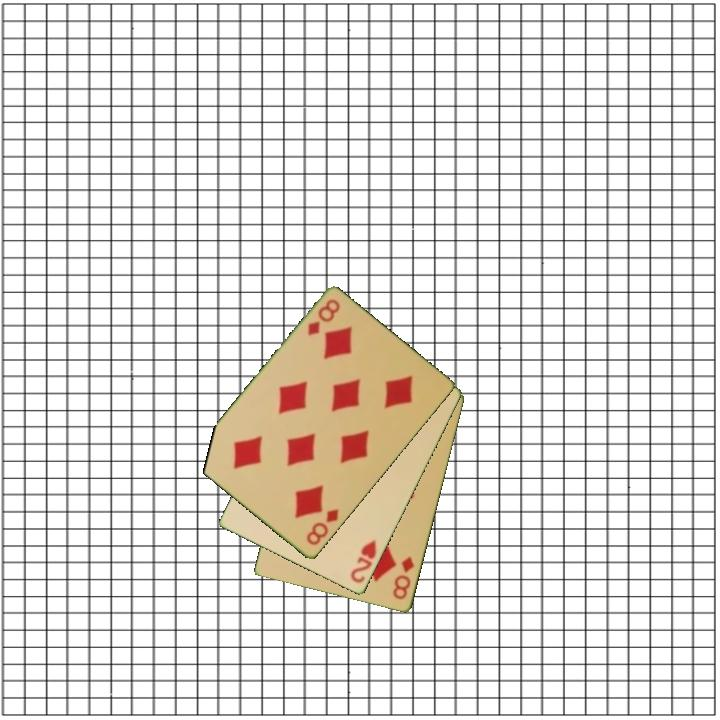2h: (347, 536, 380, 587)
8d: (303, 505, 342, 549), (304, 296, 343, 339), (389, 553, 417, 603)
